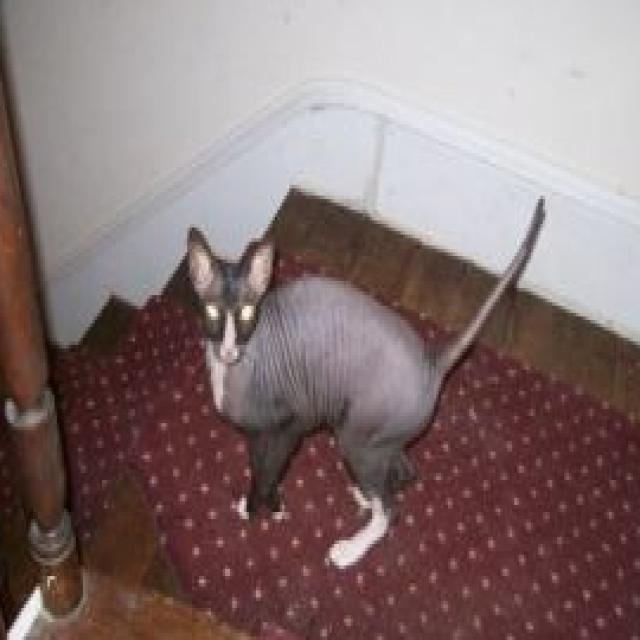Sphynx: (182, 192, 548, 573)
